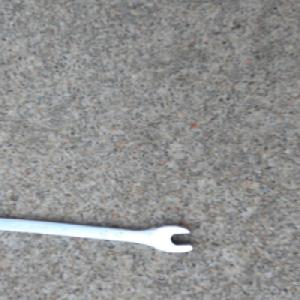Wrench: (0, 215, 195, 253)
